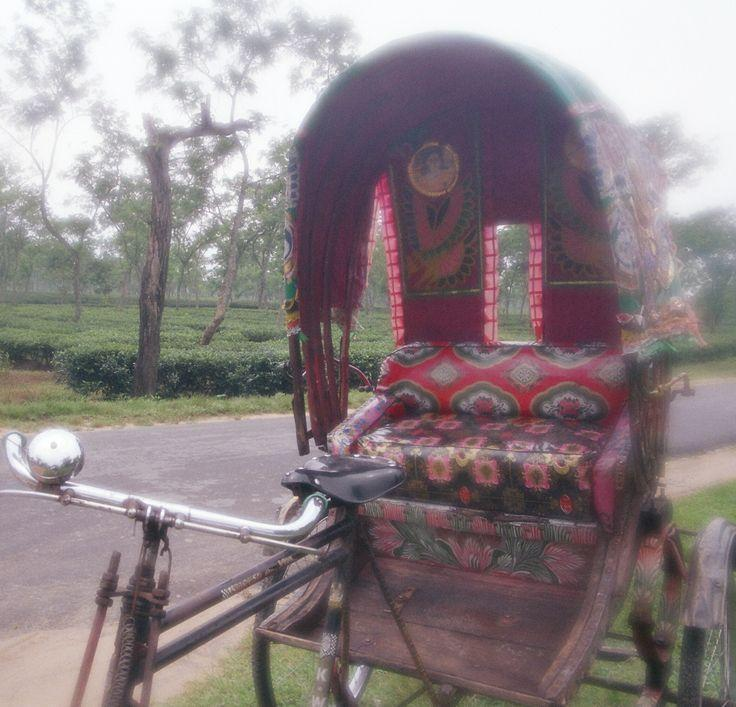Rickshaw: (3, 35, 735, 706)
